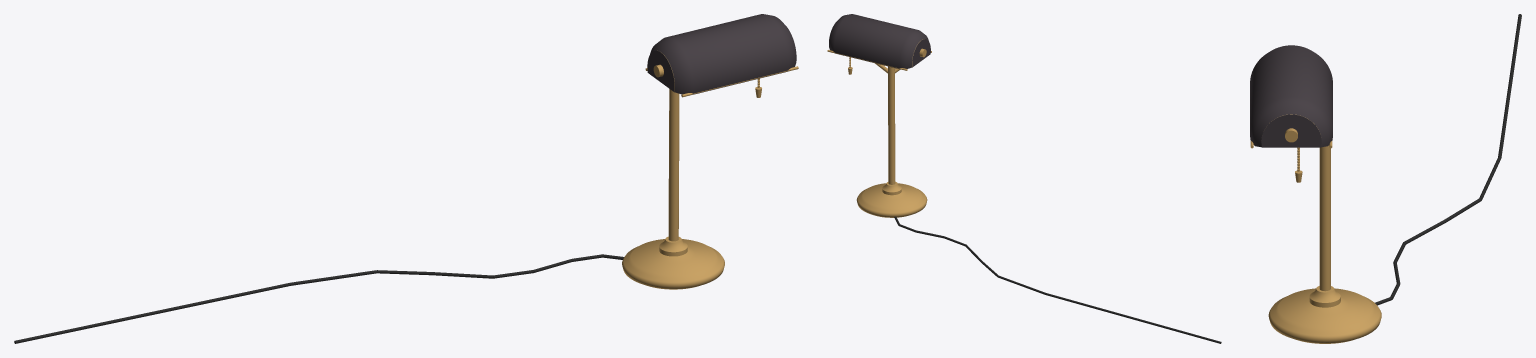
File: Metropolitan.glb
3 renders of one model, left to right at view 1: azimuth 30°, elevation 25°; view 2: azimuth 150°, elevation 25°; view 3: azimuth 270°, elevation 25°, orthographic. The views are drawn at different scales.
Visible parts, largest first — view 1: Enamel gallery, Weighted base, Post, Power lead, Shade end; view 2: Enamel gallery, Weighted base, Post, Power lead; view 3: Enamel gallery, Weighted base, Post, Shade end, Power lead, Turned stem collar.
Boxes of the visible parts, x1,y1,x2,y2 form: Enamel gallery: (650,14,796,94); Weighted base: (622,239,724,289); Post: (668,89,679,241); Power lead: (14,283,290,343); Shade end: (647,50,674,92); Enamel gallery: (829,14,928,68); Weighted base: (856,183,927,217); Post: (888,66,895,184); Power lead: (1045,293,1221,343); Enamel gallery: (1250,45,1332,147); Weighted base: (1268,288,1381,343); Post: (1319,145,1330,291); Shade end: (1261,114,1321,147); Power lead: (1498,14,1521,157); Turned stem collar: (1309,286,1340,307).
Size of the model in its own units: 7.04 by 2.47 by 2.26.
